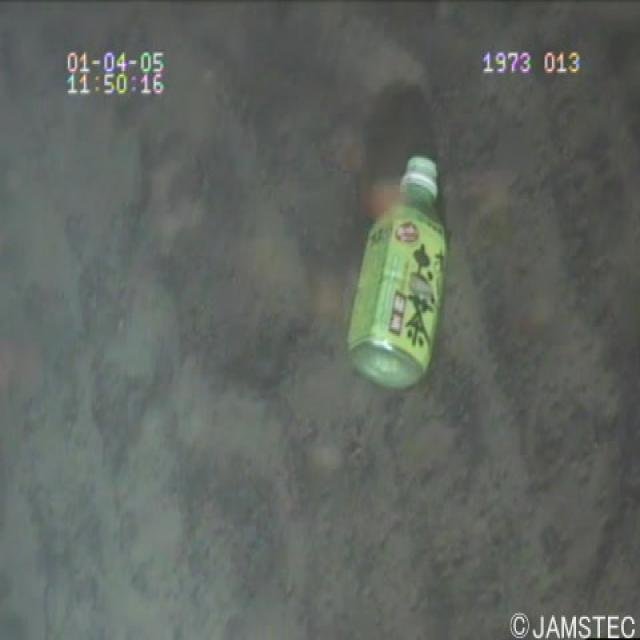plastic: (335, 135, 457, 414)
